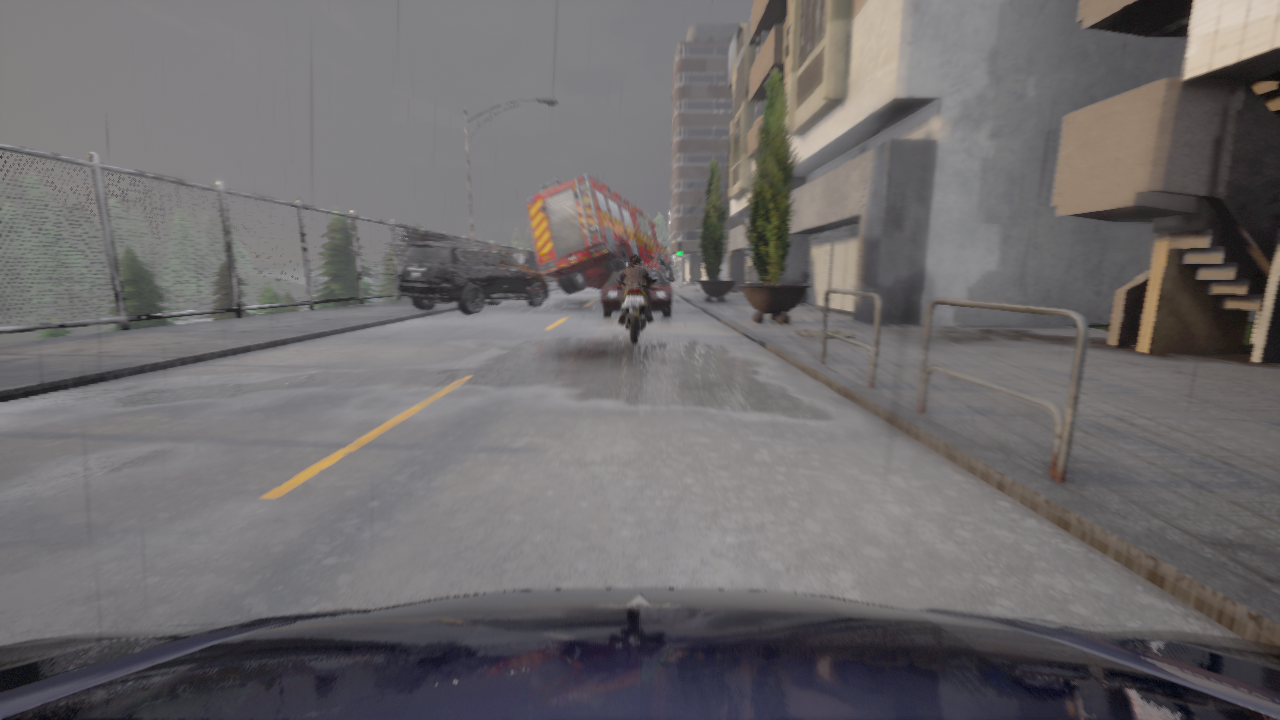cyclist: (0, 588, 1279, 719), (526, 172, 675, 293), (397, 243, 548, 314), (601, 270, 672, 317), (614, 278, 658, 344)
